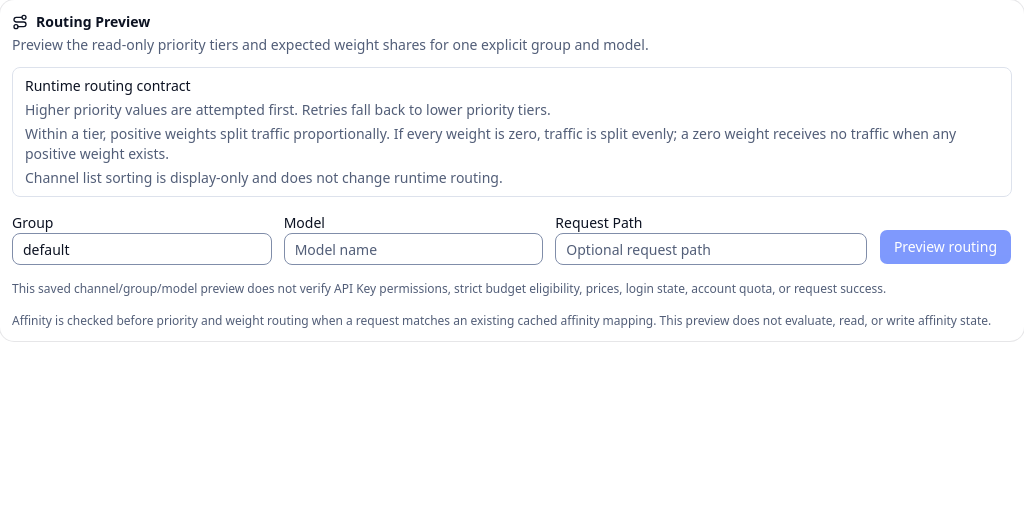
channel routing preview › clears the old preview when an input changes without refetching old parameters
Type "gpt-test" into the field named "Routing preview model".
click(413, 249); type("gpt-test")  # box [284,233,543,265]
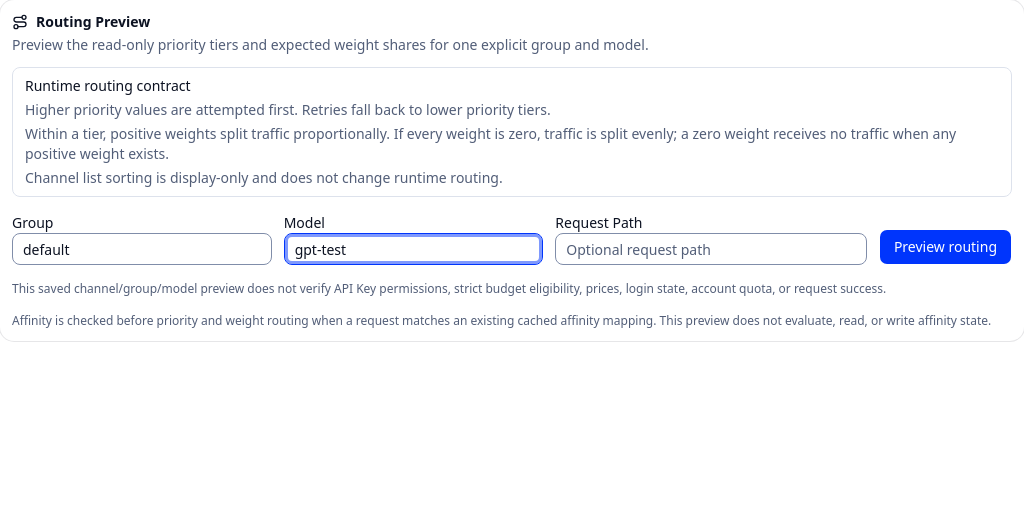
Click the button "Preview routing".
click(945, 247)  # box [879,229,1012,265]
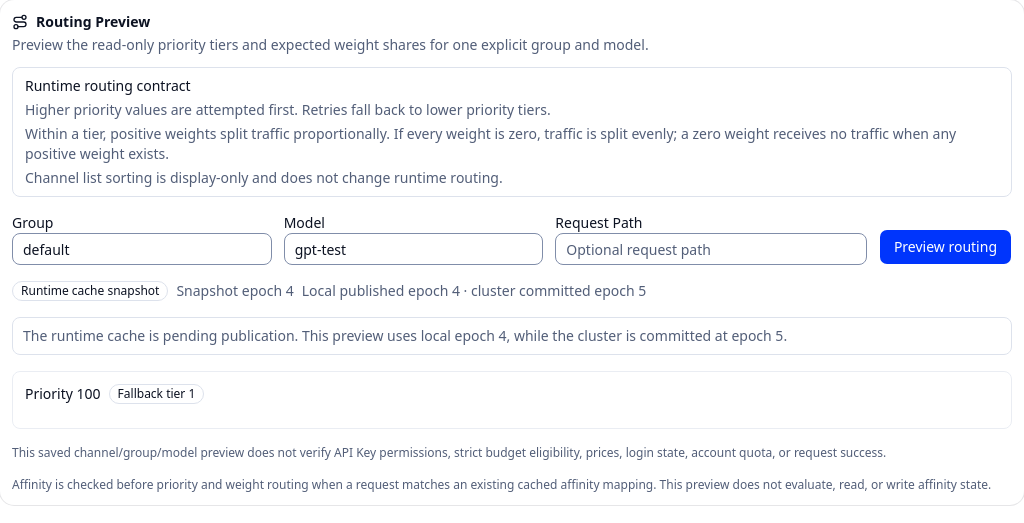
expect the text "Runtime cache snapshot" is shown: met, box [12,281,168,301]
expect the text "Snapshot epoch 4" is shown: met, box [176,281,294,301]
expect the text "runtime cache is pending publication" is shown: met, box [23,326,787,345]
Type "-changed" into the field named "Routing preview model".
click(413, 249); type("-changed")  # box [284,233,543,265]
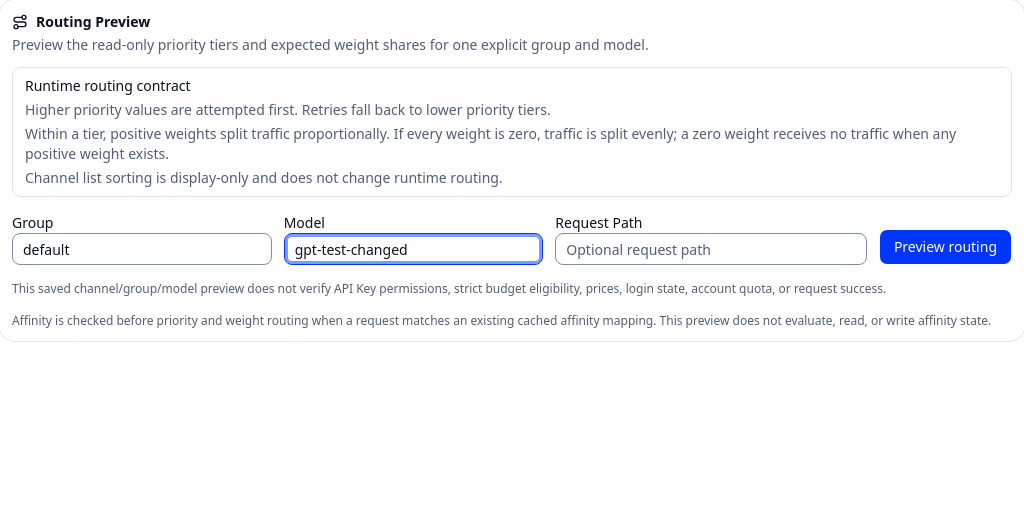
expect the text "Runtime cache snapshot" is gone: met
expect the text "Snapshot epoch 4" is gone: met
